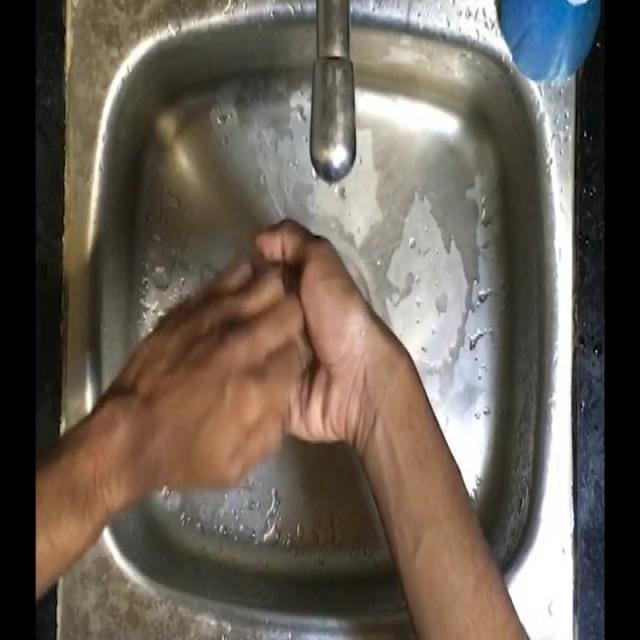step_4: (139, 210, 382, 480)
